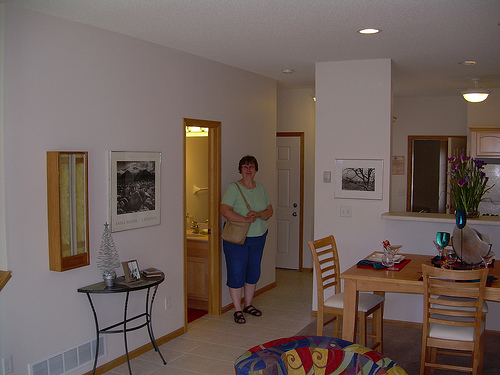without_mask: (236, 157, 261, 186)
